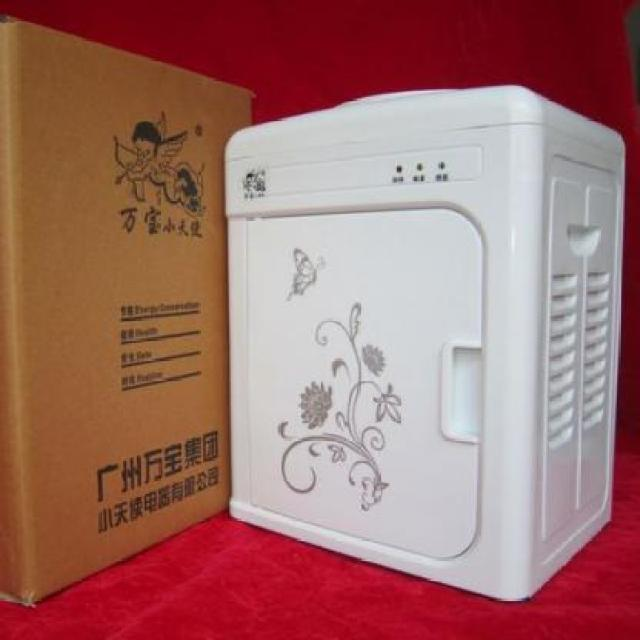cooler: (225, 80, 633, 612)
